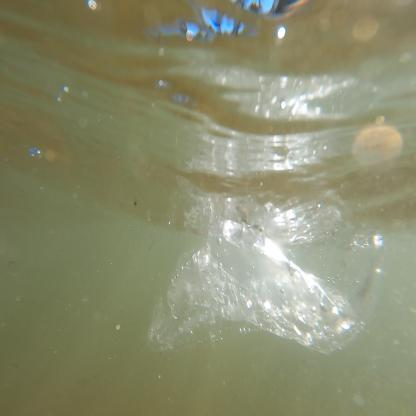Rác: (148, 204, 384, 365)
